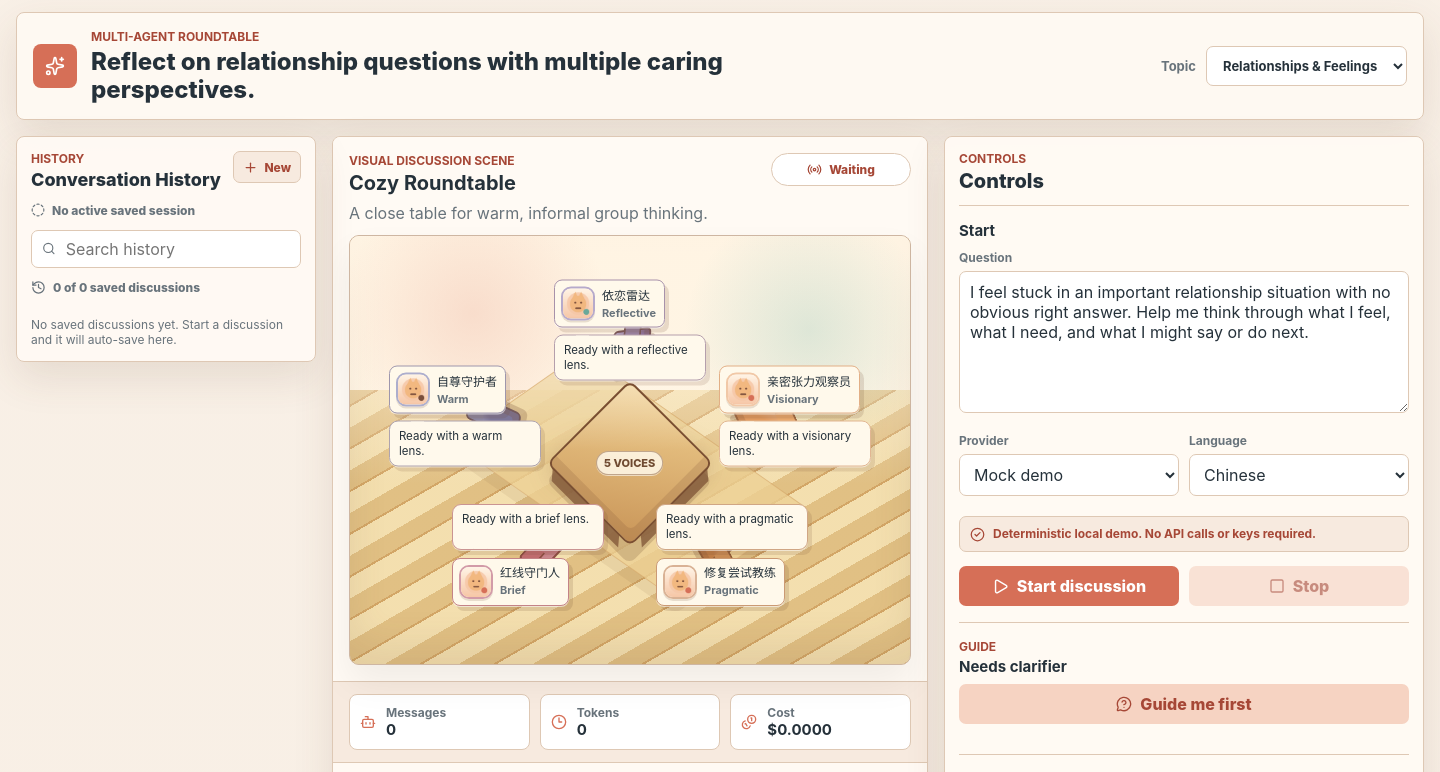
Test: App › stops a running live discussion before switching to a saved history item
Click the button "Start discussion".
click(1069, 586)  # box [959,566,1179,606]
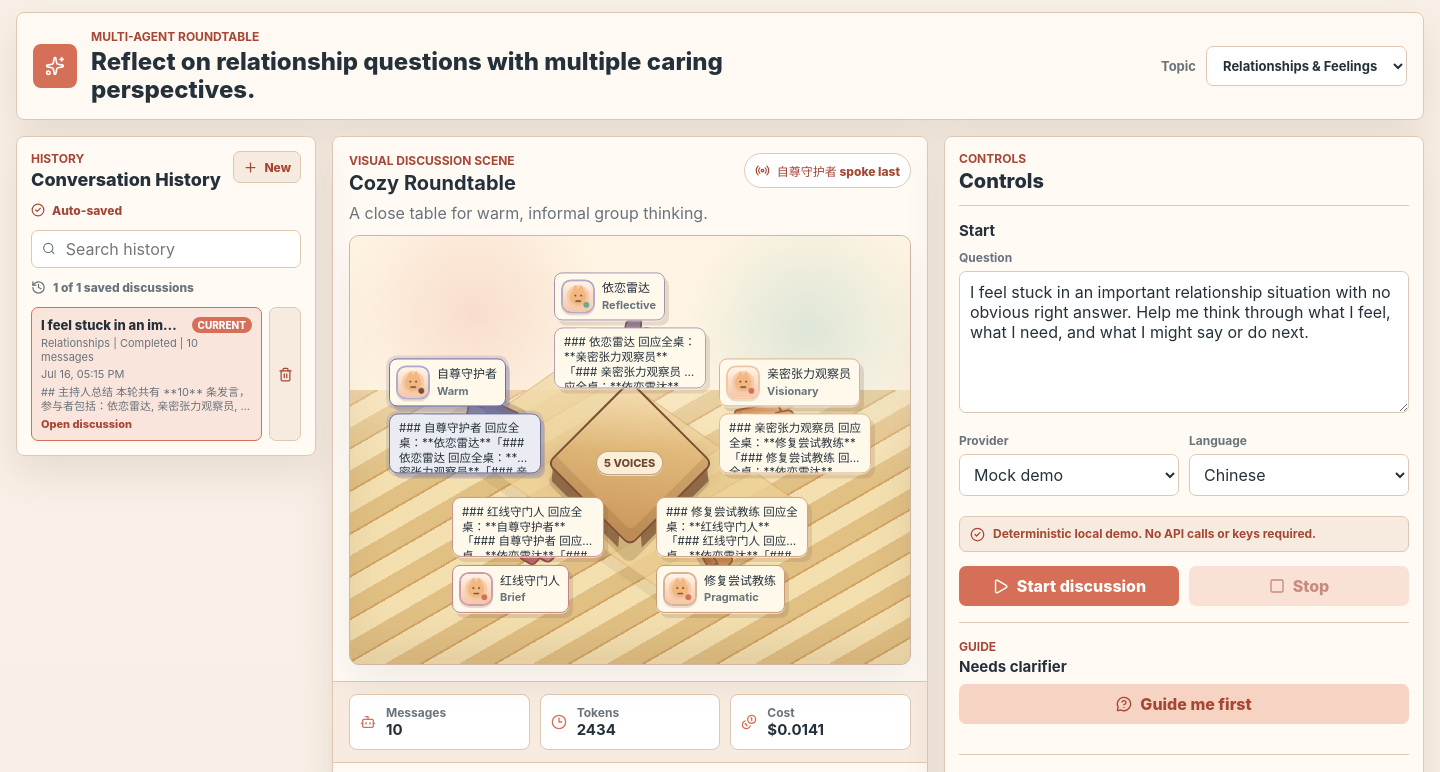
Expected: the text "1 of 1 saved discussions" is shown, [53,280,194,295]
Click the button "New".
click(267, 167)  # box [233,151,301,183]
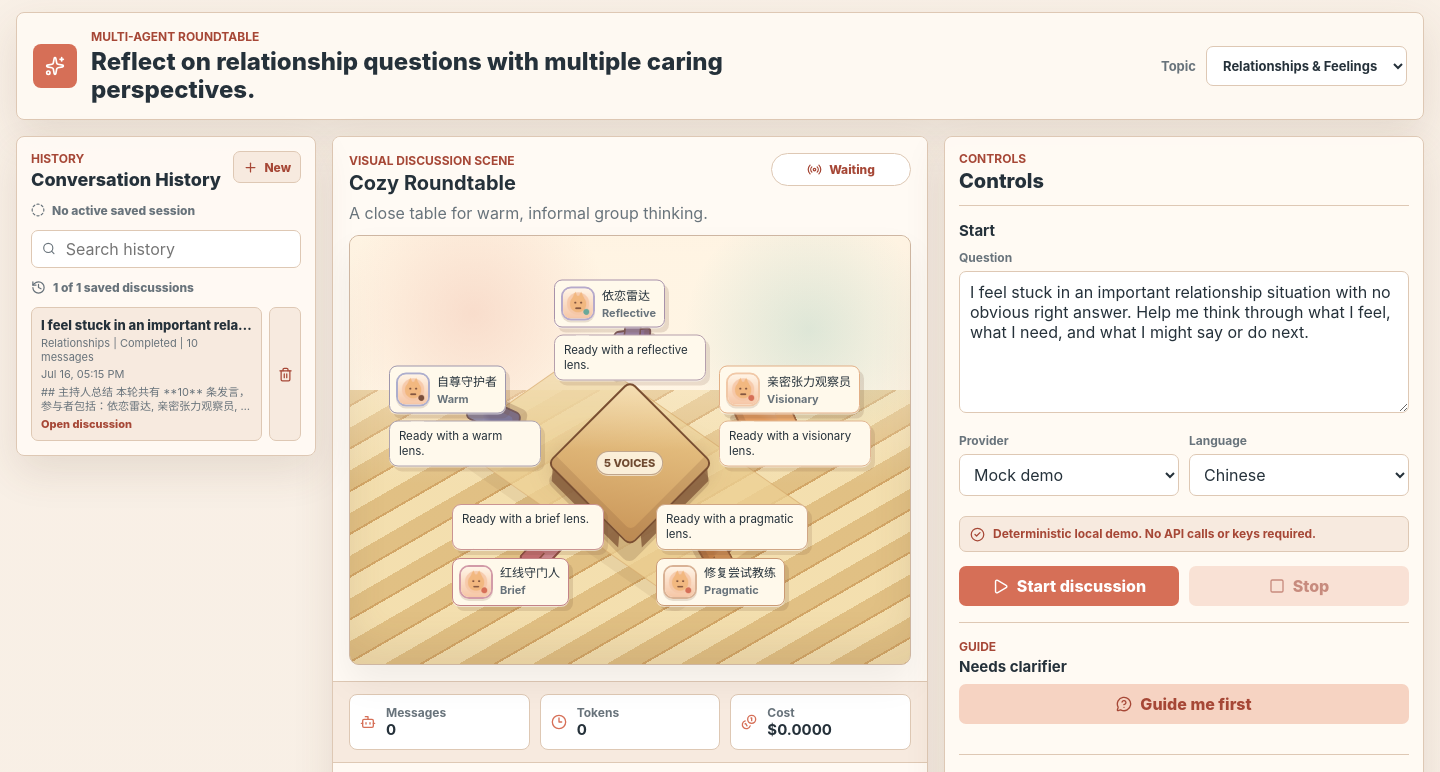
Select "DeepSeek live" in the dropdown named "Provider mode" at (1069, 475), box [959,454,1179,496]
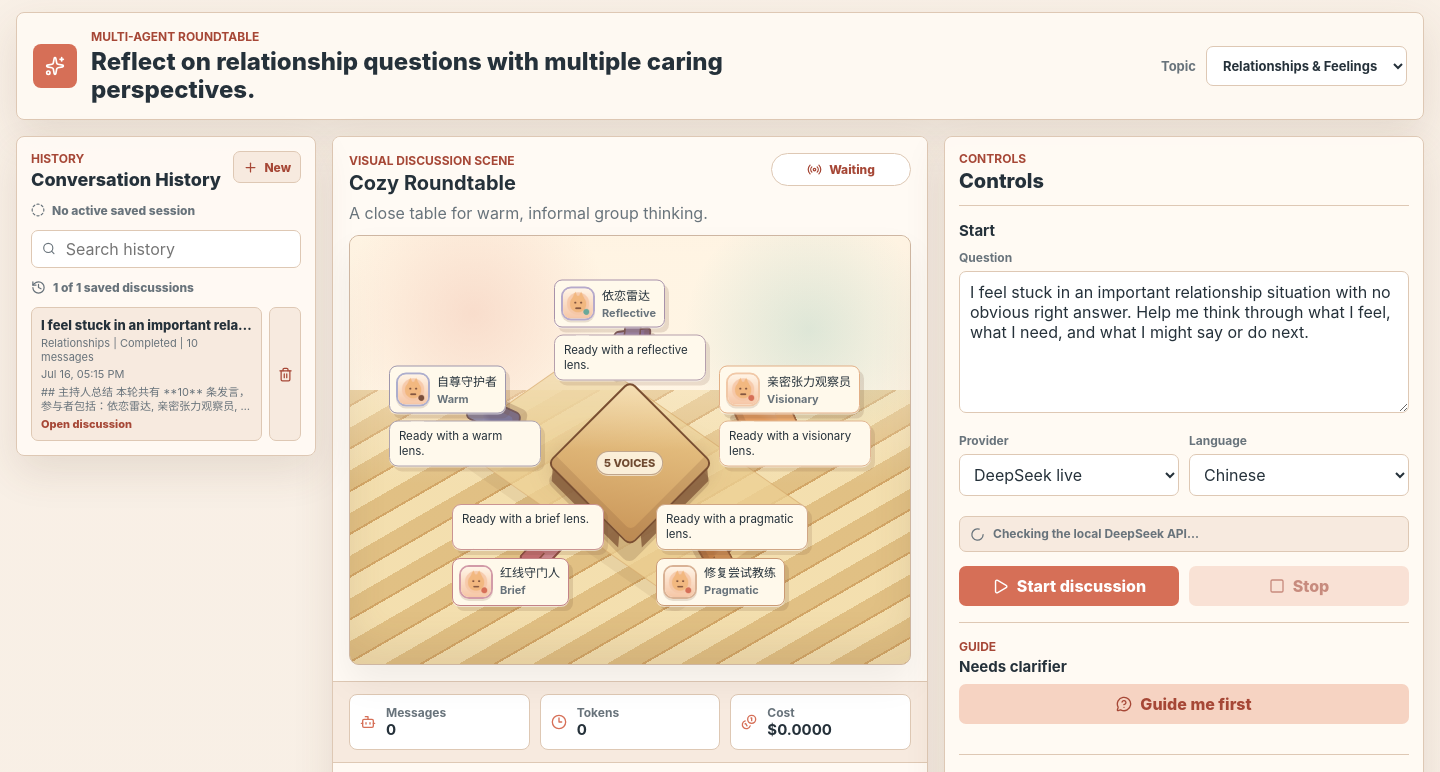
Click the button "Start discussion".
click(1069, 586)  # box [959,566,1179,606]
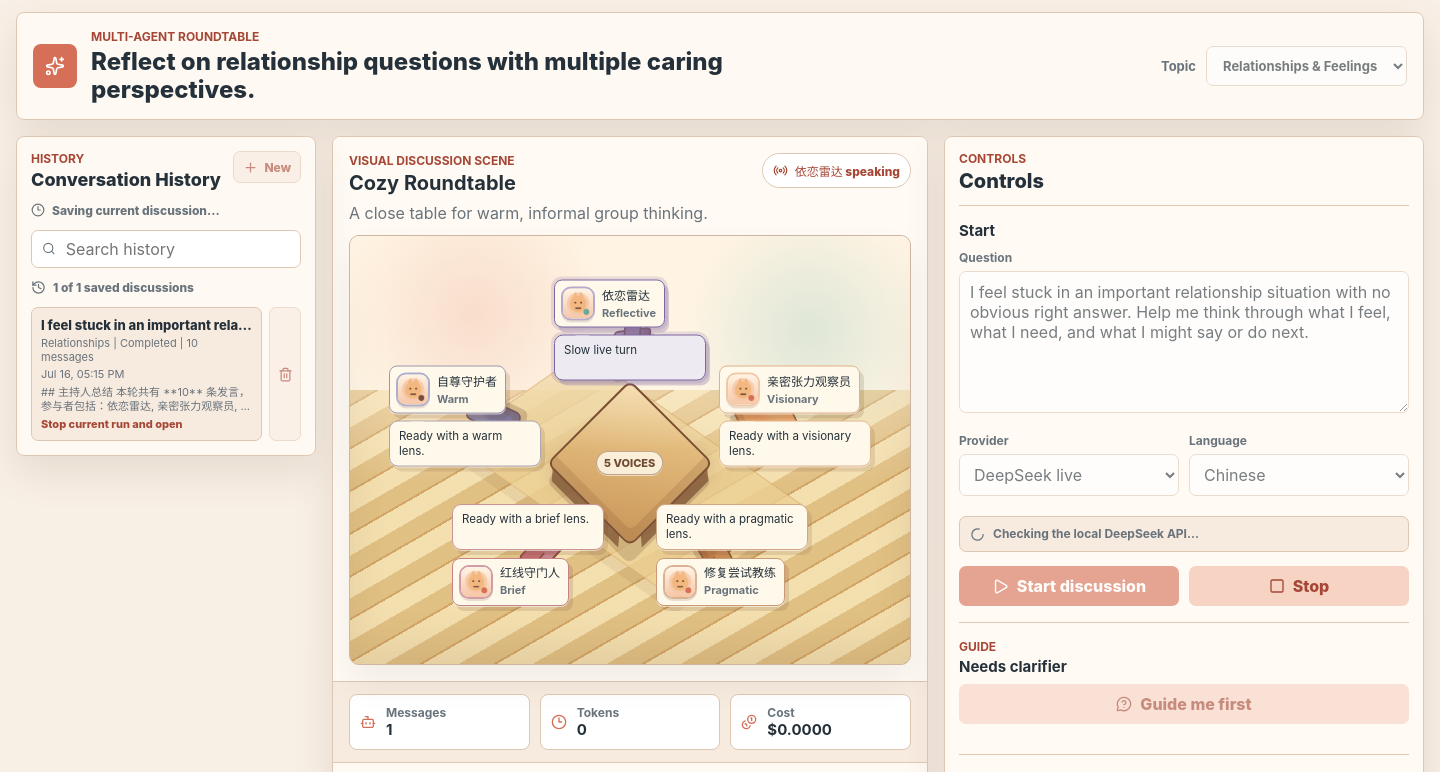
Click the button with aria-label "open ".
click(146, 374)  # box [31,307,262,441]
(page scrolled)
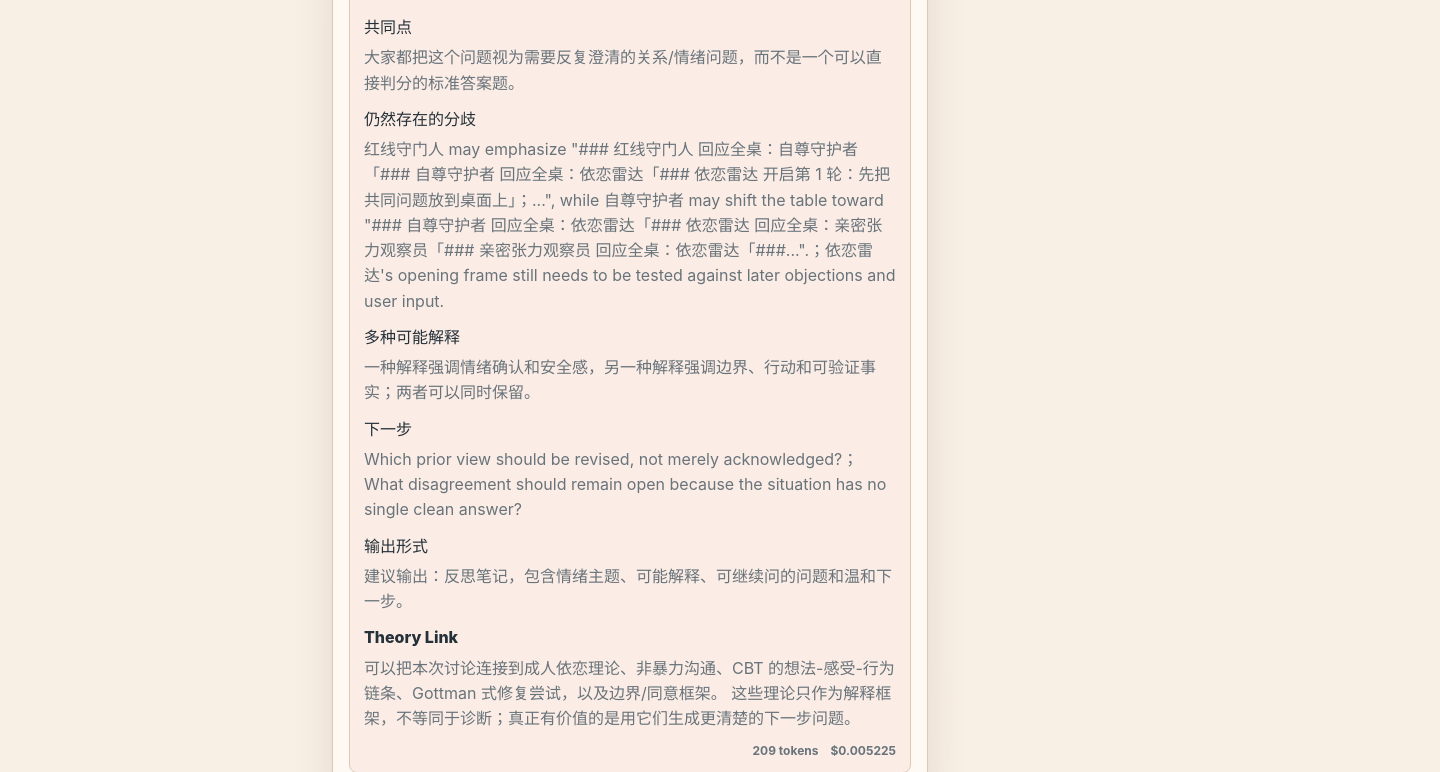
Expected: the heading "Theory Link" is shown, [364,627,458,647]
